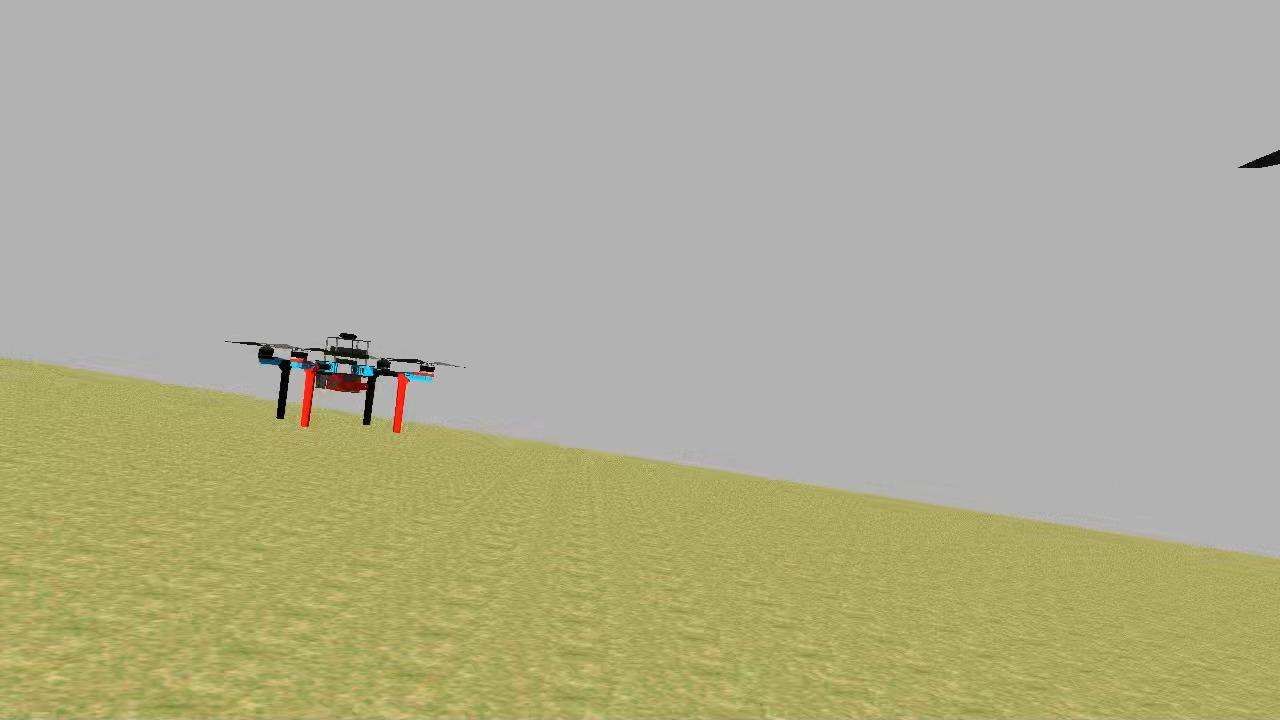UAV: (256, 326, 444, 436)
